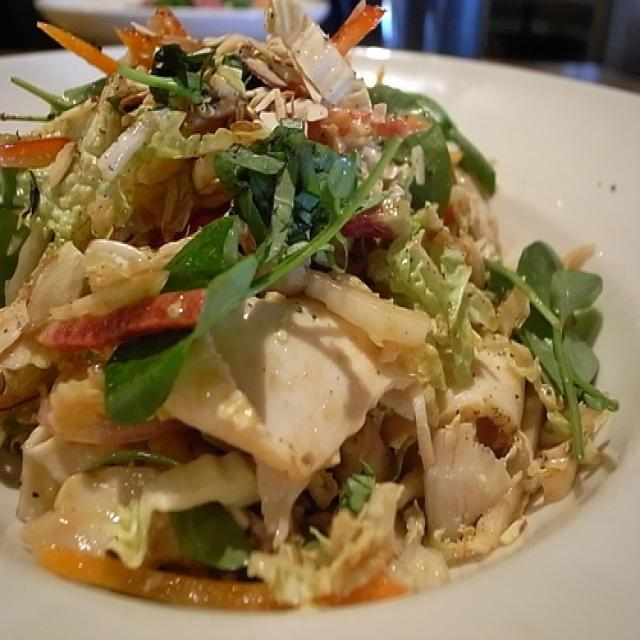鸡肉料理 含炸鸡: (9, 26, 626, 628)
